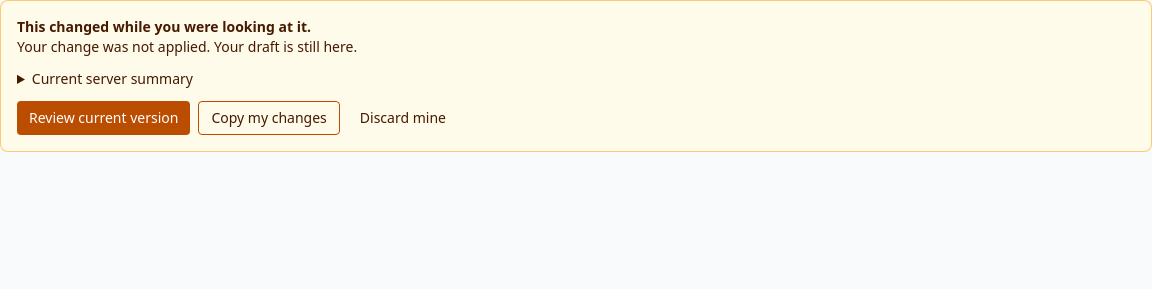
Test: RevisionConflictPanel › preserves the draft while showing a value-free current summary
Expected: the message is shown, [0,0,1151,152]
Click the heading "Current server summary".
click(112, 78)  # box [32,69,193,88]
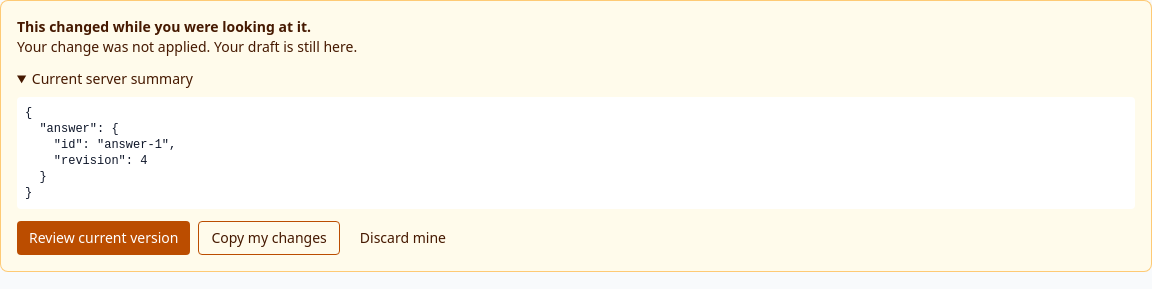
Result: the text "{ \"answer\": { \"id\": \"answer-1\", \"revision\": 4 } }" is shown at [17,97,1135,209]
